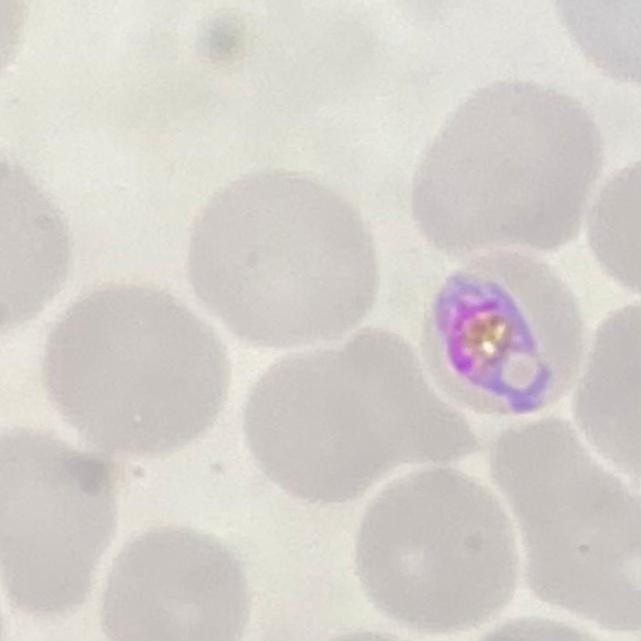Infected: (420, 253, 583, 413)
Uninfected: (243, 329, 475, 505), (413, 82, 604, 259), (193, 169, 380, 346), (490, 419, 641, 633), (44, 283, 230, 454), (354, 473, 519, 631)
